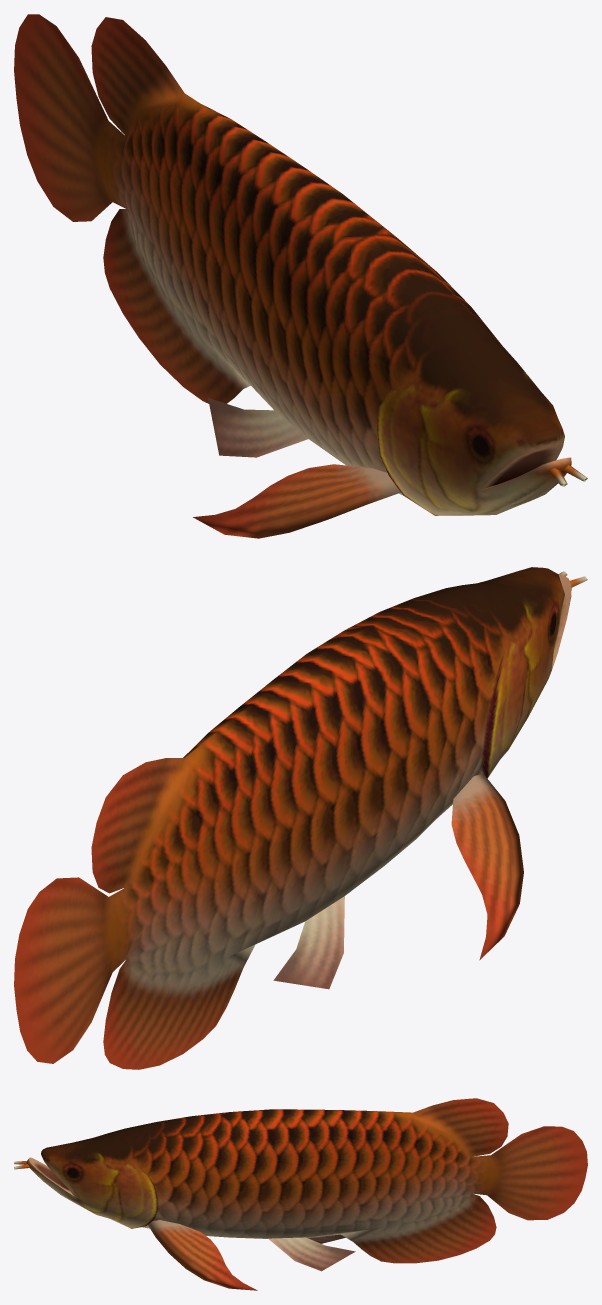
Rendered from FishArowana.glb.
3 views of the same model, one above another, from view 1: azimuth 30°, elevation 25°; view 2: azimuth 150°, elevation 25°; view 3: azimuth 270°, elevation 25° (orthographic). The views are drawn at different scales.
Visible parts, largest first — view 1: FishArowana__mArowana; view 2: FishArowana__mArowana; view 3: FishArowana__mArowana.
Boxes of the visible parts, bbox=[...] form: FishArowana__mArowana: bbox=[14, 14, 587, 538]; FishArowana__mArowana: bbox=[14, 567, 587, 1069]; FishArowana__mArowana: bbox=[14, 1098, 587, 1290].
Size of the model in its own units: 3.64 by 3.91 by 12.32.
1 material, 1 textured.
